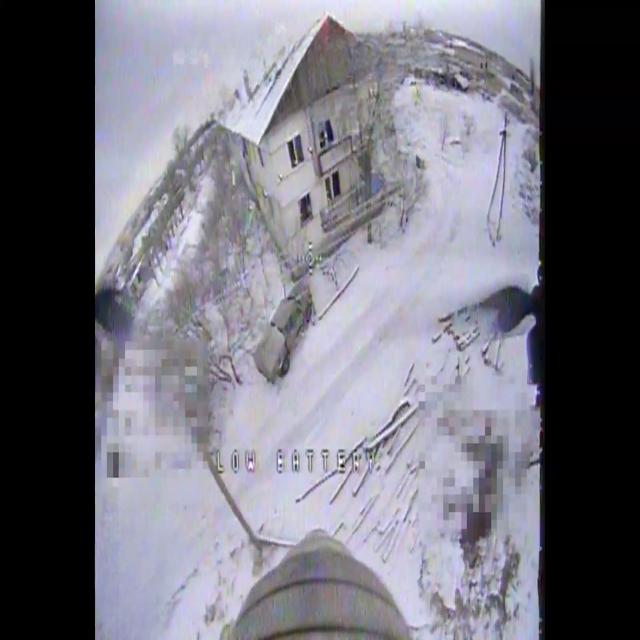Vehicle: (257, 285, 317, 390)
